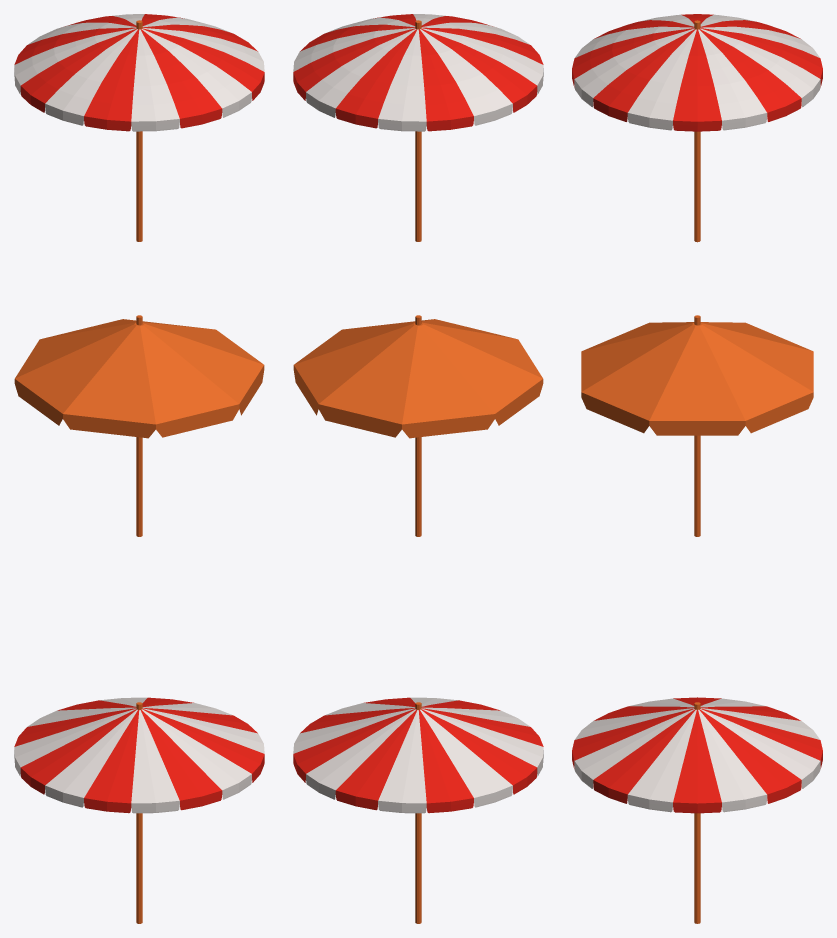
Rendered from sombrelas.fbx.
3 views of the same model, side by side, from view 1: azimuth 30°, elevation 25°; view 2: azimuth 150°, elevation 25°; view 3: azimuth 270°, elevation 25° (orthographic).
Parts seen in each view (by area): view 1: umbrella_C, umbrella_A, umbrella_B; view 2: umbrella_C, umbrella_A, umbrella_B; view 3: umbrella_C, umbrella_A, umbrella_B.
Boxes of the visible parts, x1,y1,x2,y2 form: umbrella_C: [14, 14, 264, 241]; umbrella_A: [14, 697, 264, 923]; umbrella_B: [14, 315, 264, 536]; umbrella_C: [293, 14, 543, 241]; umbrella_A: [293, 697, 543, 923]; umbrella_B: [293, 315, 543, 536]; umbrella_C: [572, 14, 822, 242]; umbrella_A: [572, 697, 822, 923]; umbrella_B: [581, 315, 813, 536].
Size of the model in its own units: 314 by 1245 by 314.
